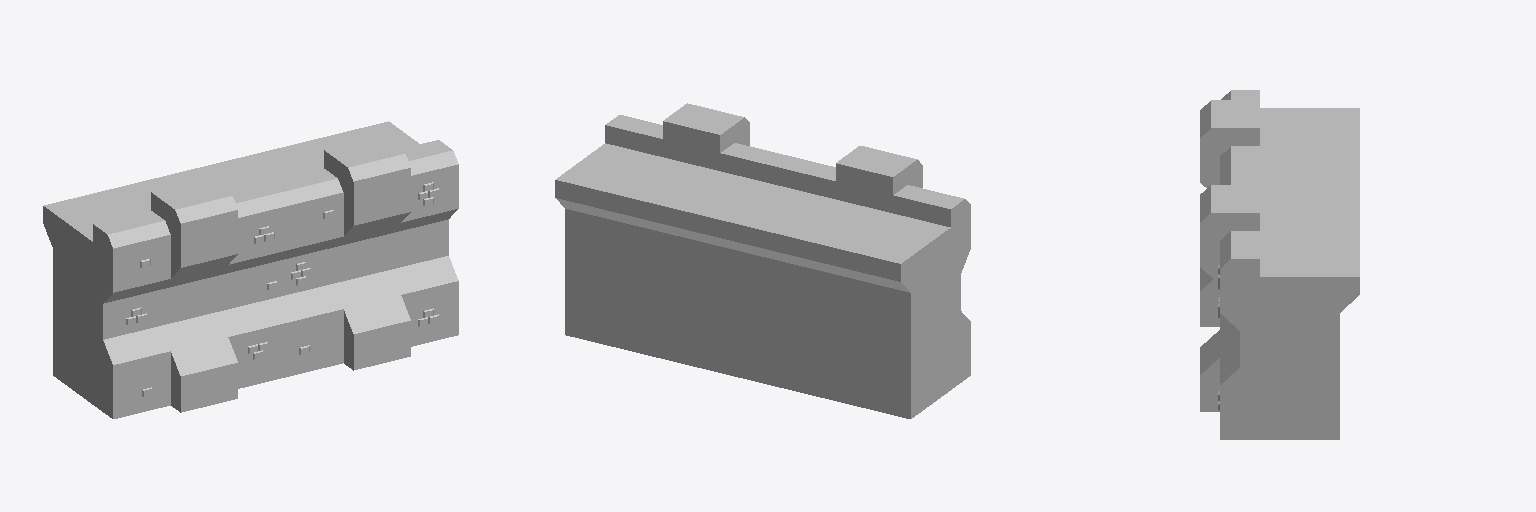
File: wall_straight.obj
The picture shows the model from 3 angles: view 1: azimuth 30°, elevation 25°; view 2: azimuth 150°, elevation 25°; view 3: azimuth 270°, elevation 25°; orthographic projection.
Visible parts, largest first — view 1: wall_straight; view 2: wall_straight; view 3: wall_straight.
Part boxes in pixels (x1,y1,x2,y2): wall_straight: (43, 121, 458, 418); wall_straight: (555, 103, 970, 418); wall_straight: (1200, 90, 1359, 439).
Bounding box in the file's own units: 2 × 1.1 × 0.8.